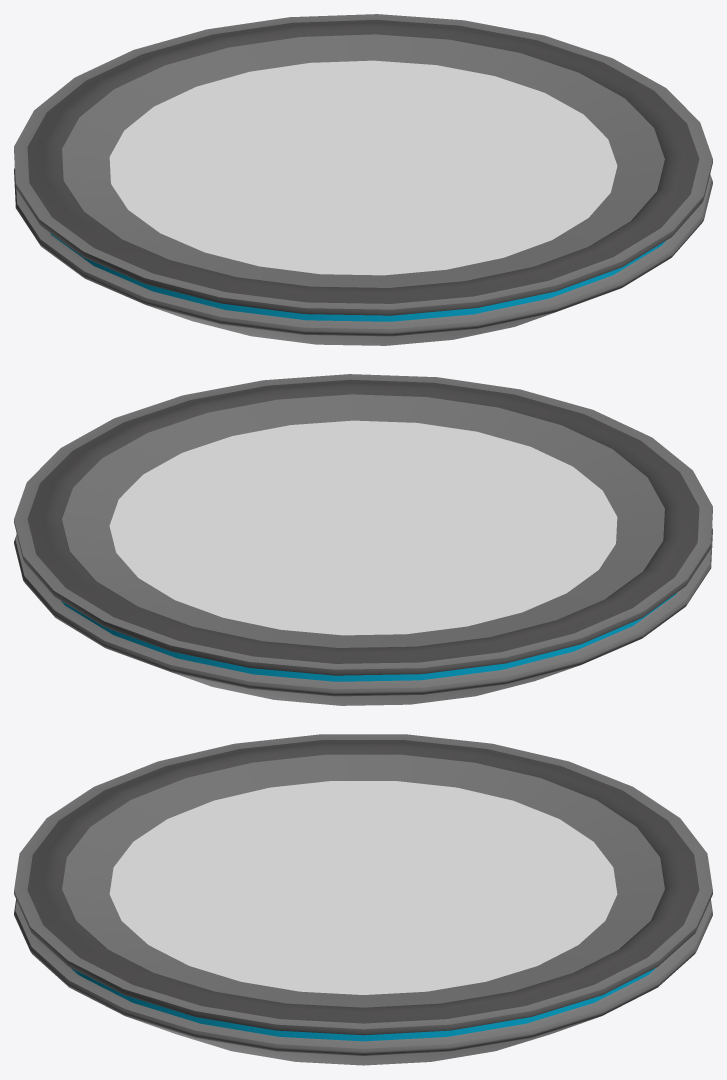
File: Platform_C.fbx
3 renders of one model, top to bottom at view 1: azimuth 30°, elevation 25°; view 2: azimuth 150°, elevation 25°; view 3: azimuth 270°, elevation 25°, orthographic.
Parts seen in each view (by area): view 1: Platform_C; view 2: Platform_C; view 3: Platform_C.
Boxes of the visible parts, x1,y1,x2,y2 form: Platform_C: [14, 14, 712, 345]; Platform_C: [14, 374, 712, 705]; Platform_C: [14, 734, 712, 1065].
Size of the model in its own units: 1.99 by 2 by 0.4201.
